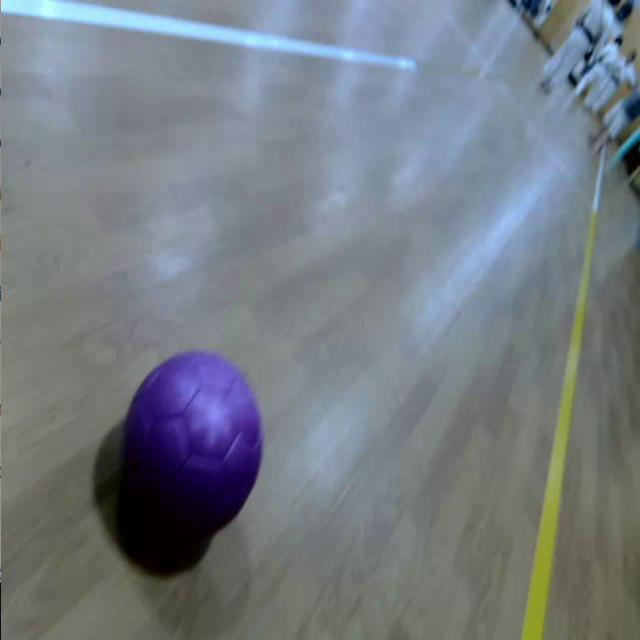purple_ball: (122, 352, 263, 530)
